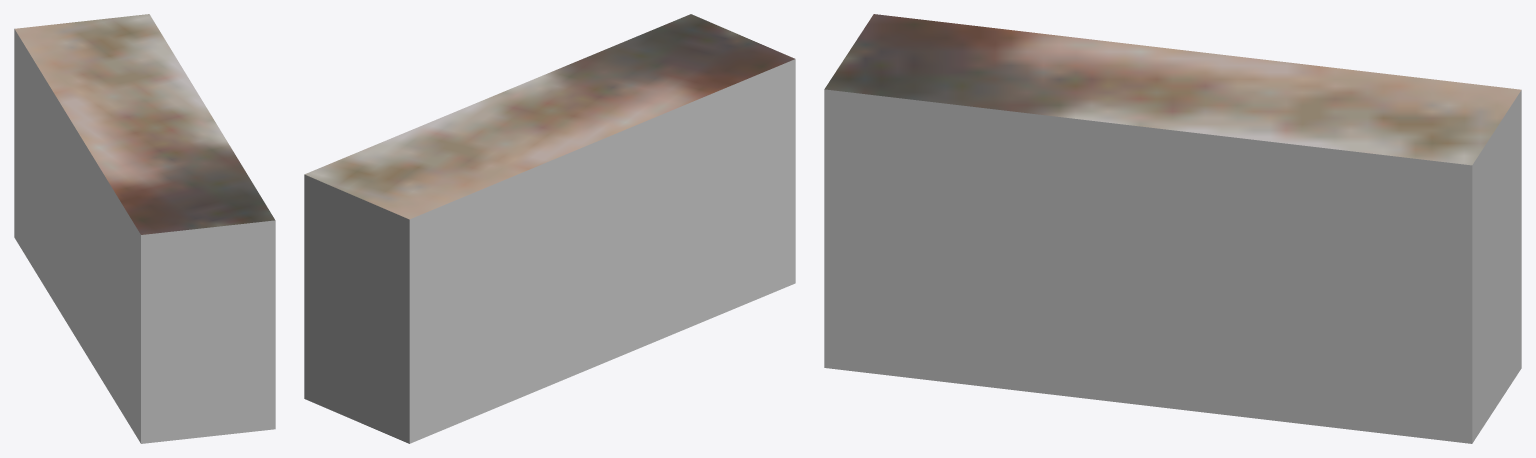
Rendered from DEBW_0010007TI0q.gltf.
3 views of the same model, side by side, from view 1: azimuth 30°, elevation 25°; view 2: azimuth 150°, elevation 25°; view 3: azimuth 270°, elevation 25° (orthographic). The views are drawn at different scales.
Visible parts, largest first — view 1: Z_UP; view 2: Z_UP; view 3: Z_UP.
Boxes of the visible parts, bbox=[...] form: Z_UP: bbox=[14, 14, 275, 443]; Z_UP: bbox=[304, 14, 795, 443]; Z_UP: bbox=[824, 14, 1521, 443].
Size of the model in its own units: 4.42 by 3.79 by 8.6.
Materials: 2 (1 with a texture image).
